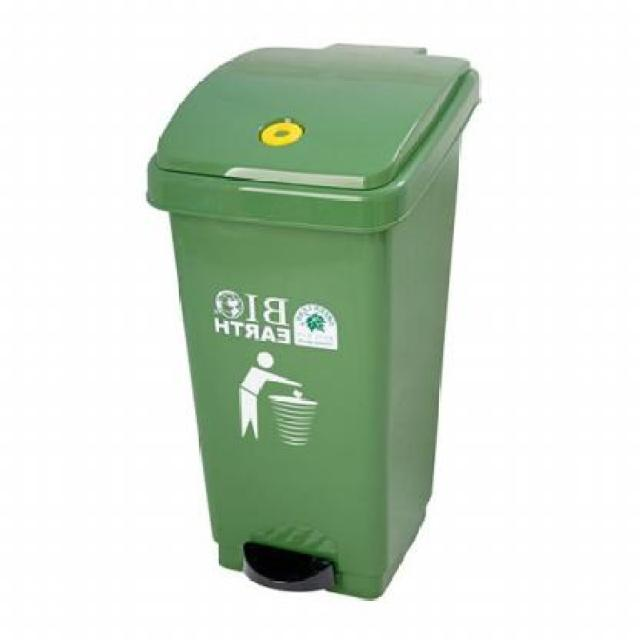garbage container: (129, 30, 488, 618)
